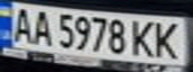5: (51, 10, 75, 49)
7: (87, 15, 109, 53)
8: (106, 16, 130, 55)
9: (69, 12, 93, 52)
A: (6, 5, 36, 44), (27, 7, 54, 46)
K: (148, 19, 187, 61), (127, 17, 157, 59)
